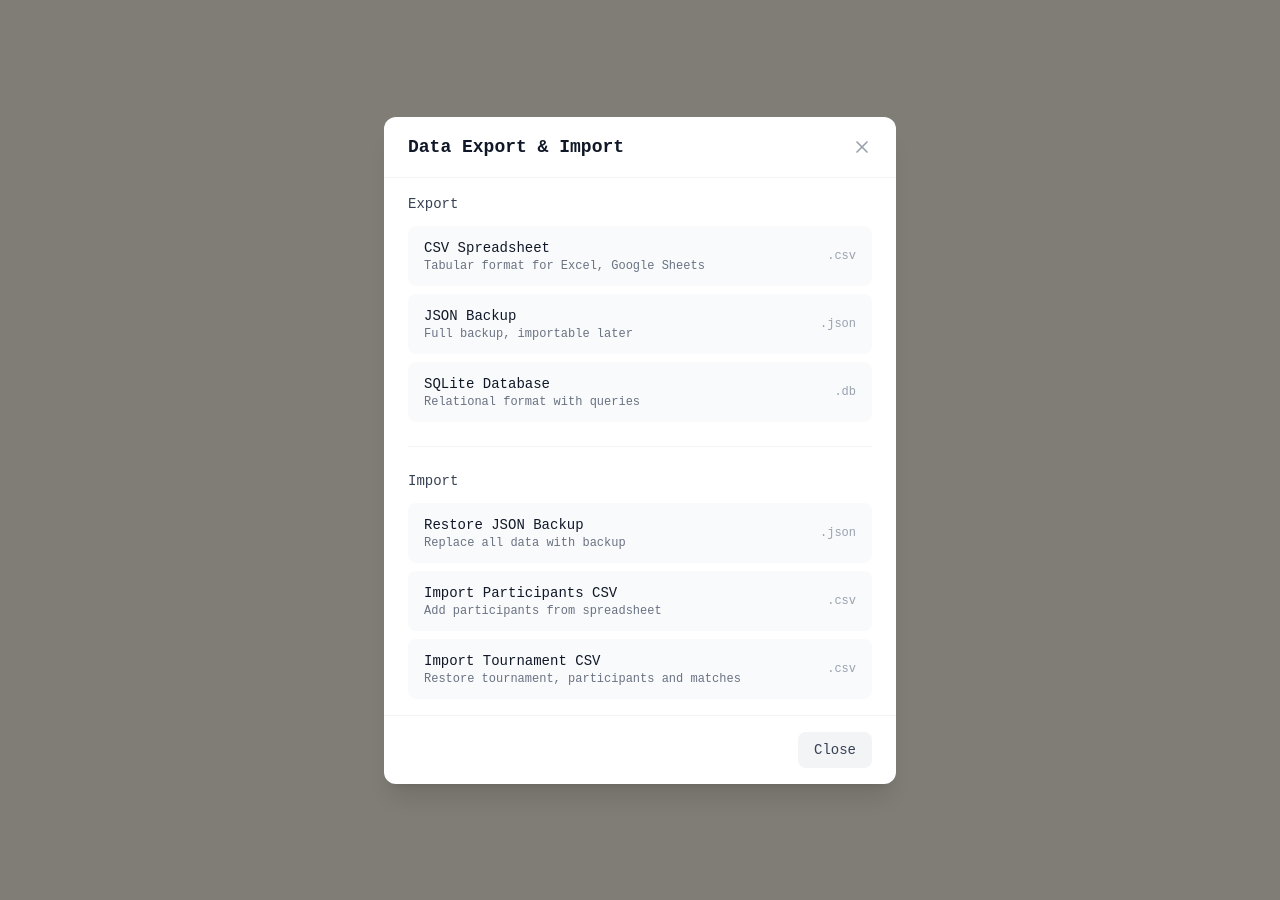
ExportModal › reports a JSON export failure
Step 1. Click the text "JSON Backup" → x=470, y=316, box [424,308,516,324]
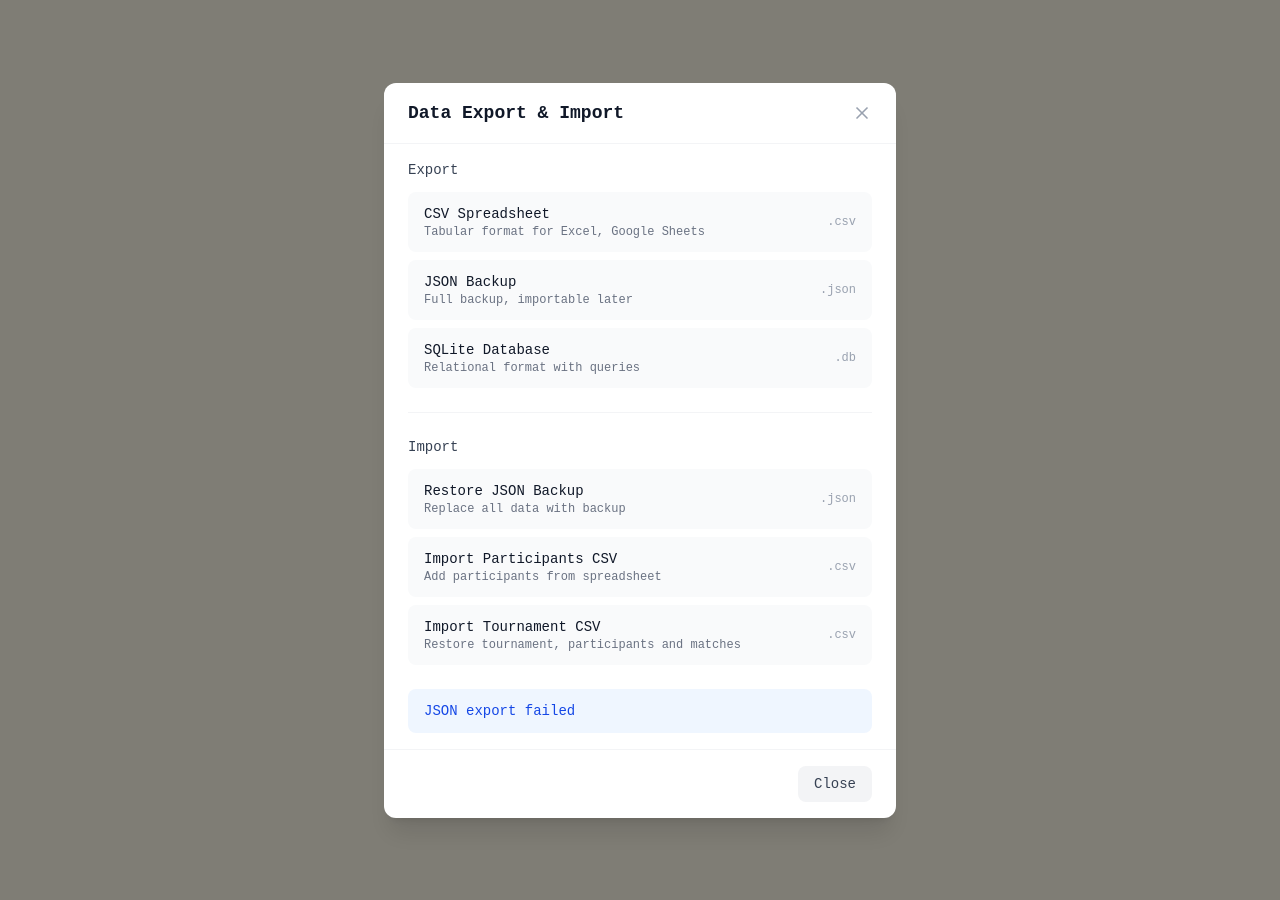
Now the text "JSON export failed" is shown, box [424,700,575,720]
